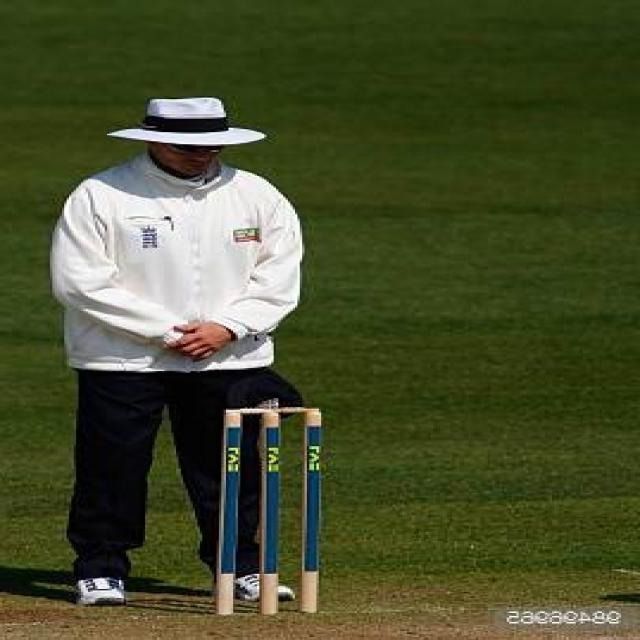No_Action: (41, 83, 318, 615)
